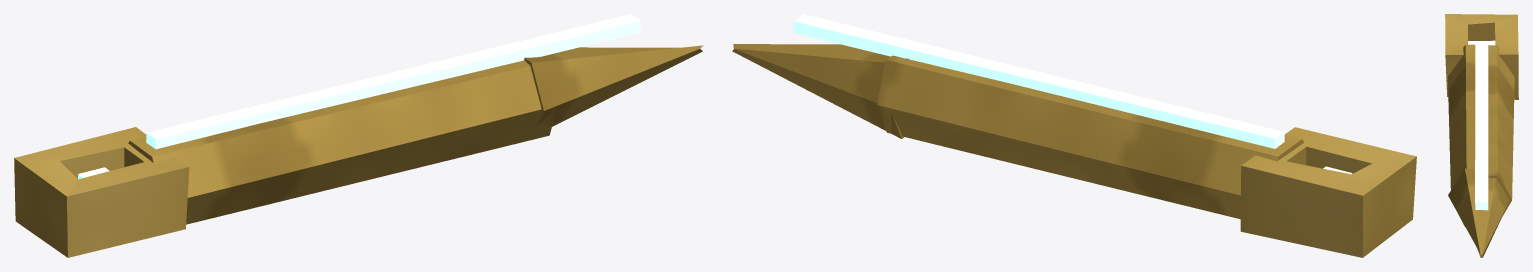
Rendered from needle_legendary.glb.
The picture shows the model from 3 angles, left to right: view 1: azimuth 30°, elevation 25°; view 2: azimuth 150°, elevation 25°; view 3: azimuth 270°, elevation 25°; orthographic projection. The views are drawn at different scales.
Visible parts, largest first — view 1: NeedleLegendary; view 2: NeedleLegendary; view 3: NeedleLegendary.
Part boxes in pixels (x1,y1,x2,y2): NeedleLegendary: (14,14,703,257); NeedleLegendary: (732,14,1416,257); NeedleLegendary: (1445,14,1518,257).
Size of the model in its own units: 0.3368 by 0.0416 by 0.0477.
2 materials, 1 textured.
